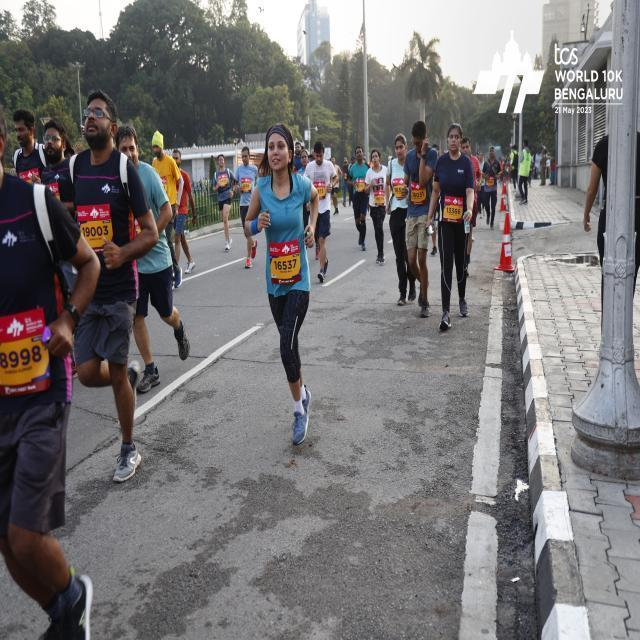dorsal: (0, 309, 54, 395), (70, 196, 119, 262), (268, 239, 304, 284), (240, 177, 252, 193), (218, 174, 228, 187)
